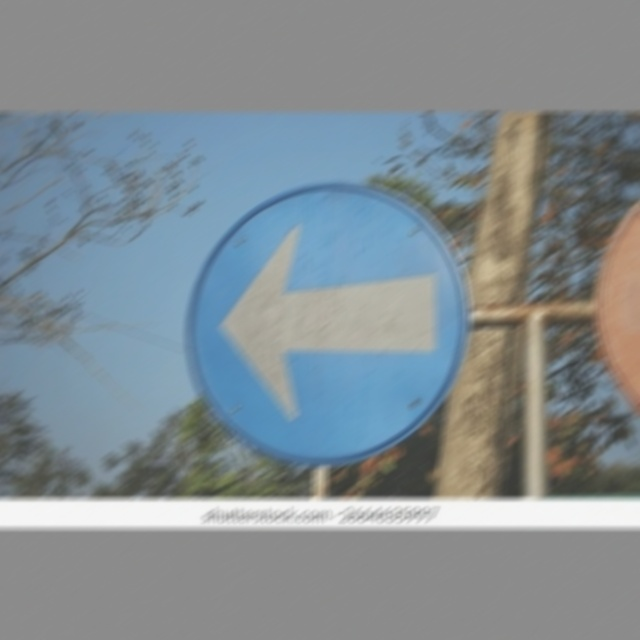Compulsory_Turn_Left: (194, 189, 470, 460)
